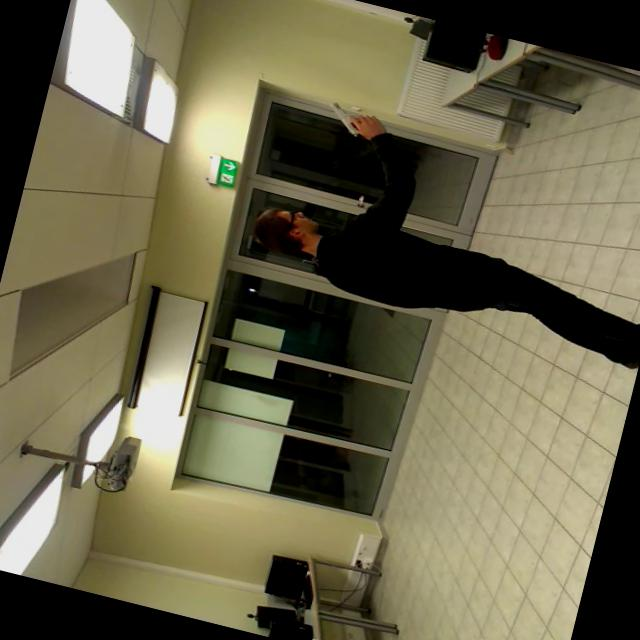handgun: (316, 89, 388, 144)
